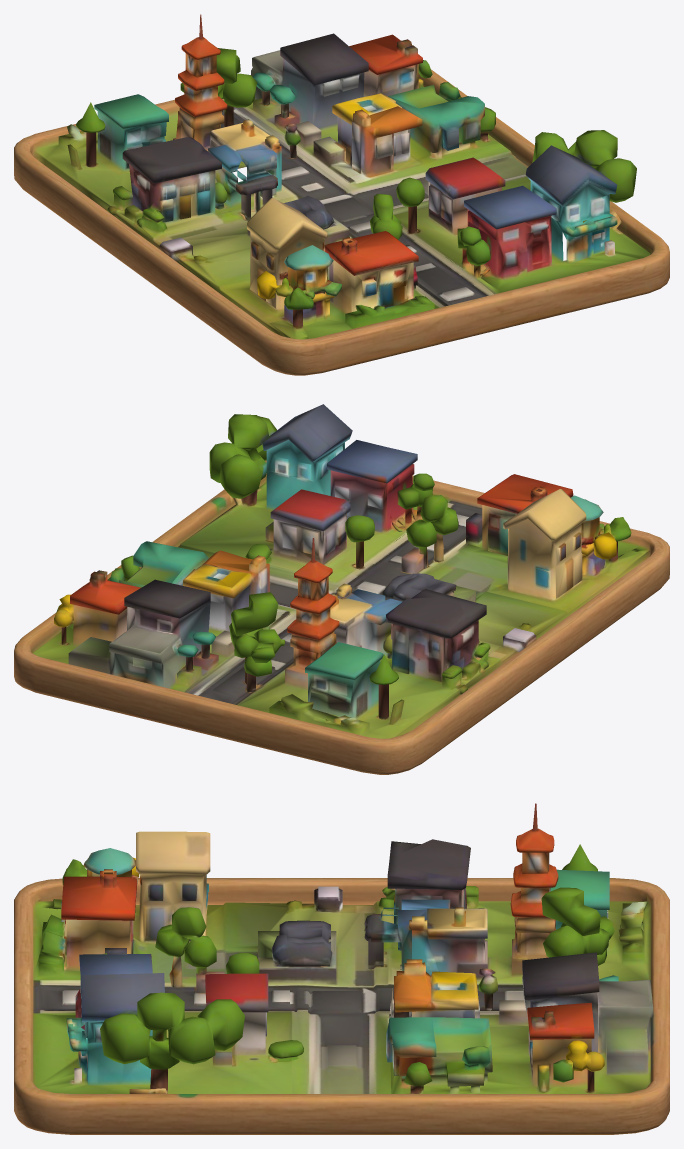
Rendered from chiba.glb.
The picture shows the model from 3 angles, top to bottom: view 1: azimuth 30°, elevation 25°; view 2: azimuth 150°, elevation 25°; view 3: azimuth 270°, elevation 25°; orthographic projection. The views are drawn at different scales.
Visible parts, largest first — view 1: chiba.glb; view 2: chiba.glb; view 3: chiba.glb.
Part boxes in pixels (<box>): chiba.glb: <box>14,14,669,375</box>; chiba.glb: <box>14,404,669,774</box>; chiba.glb: <box>14,803,669,1134</box>.
Bounding box in the file's own units: 0.7913 × 0.3123 × 0.9791.
Materials: 1 (1 with a texture image).
